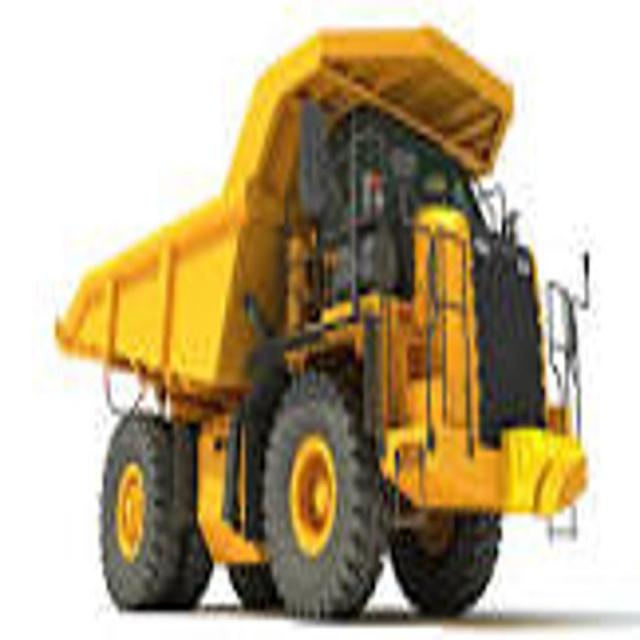dump_truck: (55, 22, 595, 640)
